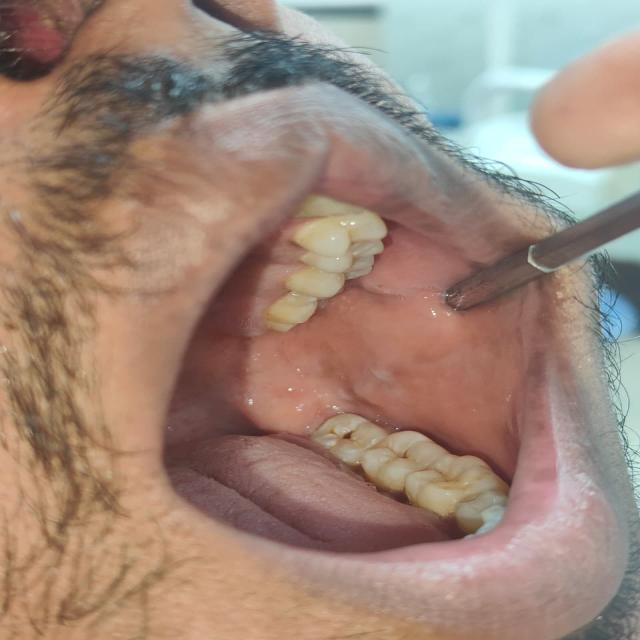processing_area: (160, 214, 540, 559)
